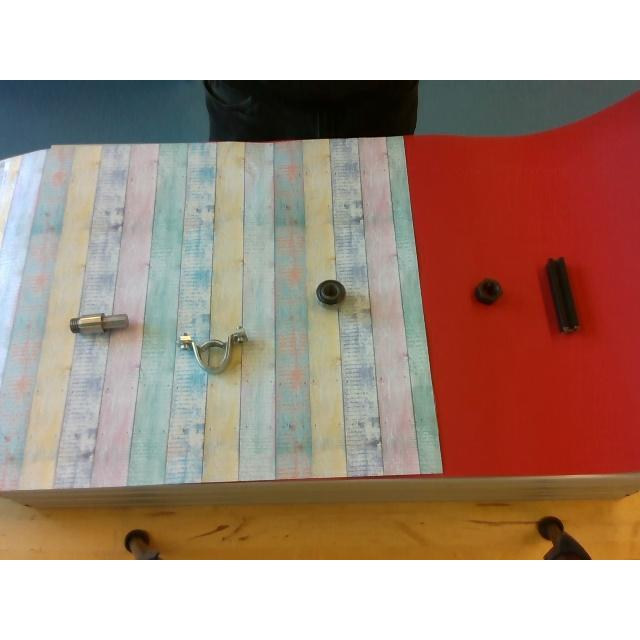Axis2: (69, 310, 129, 336)
Bearing2: (316, 280, 344, 304)
F20_20_B: (546, 258, 578, 329)
Housing: (176, 331, 246, 373)
M20: (475, 278, 503, 306)
